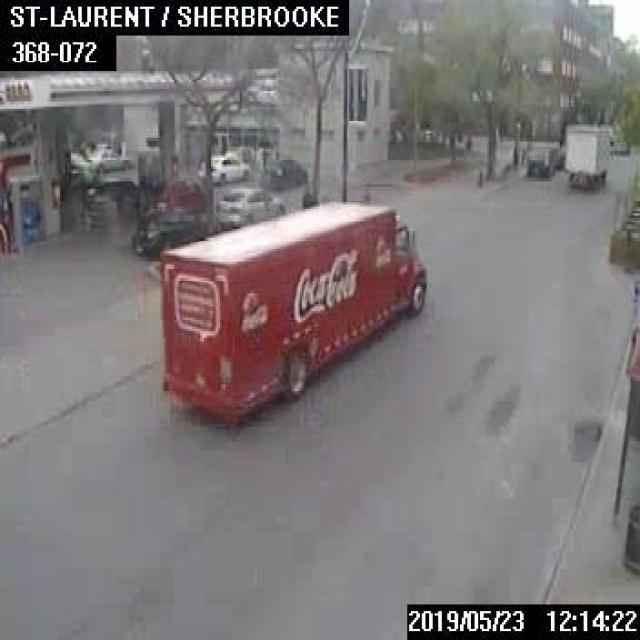pedestrian: (464, 130, 471, 156)
vehicle: (155, 196, 427, 420), (130, 205, 207, 256), (564, 123, 608, 188), (216, 186, 283, 225), (70, 145, 129, 172), (198, 153, 248, 184), (259, 156, 307, 186), (525, 145, 554, 177), (610, 138, 628, 154)
